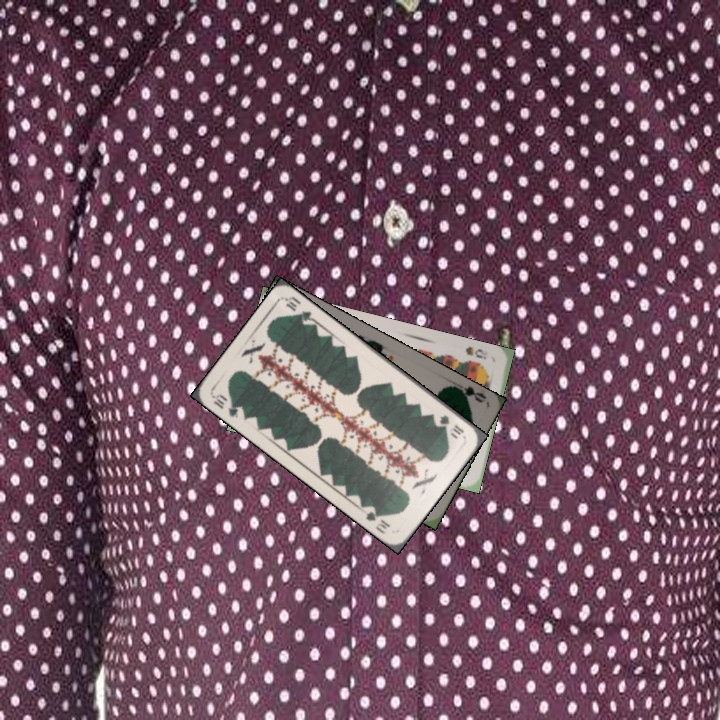G10: (209, 390, 247, 421), (435, 411, 467, 437)
GO: (448, 378, 488, 405)
S8: (461, 342, 490, 362)
